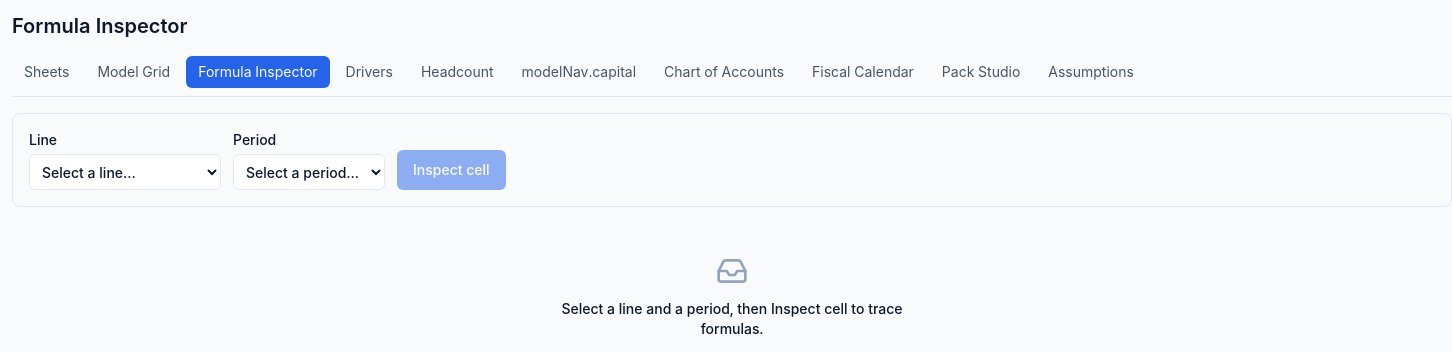
Test: S-042 Formula Inspector (F-012) › surfaces a locked user-facing message (never raw error.message) on inspection failure
Select "4000 · Revenue" in the dropdown labelled "Line": [125, 172] box [29,154,221,190]
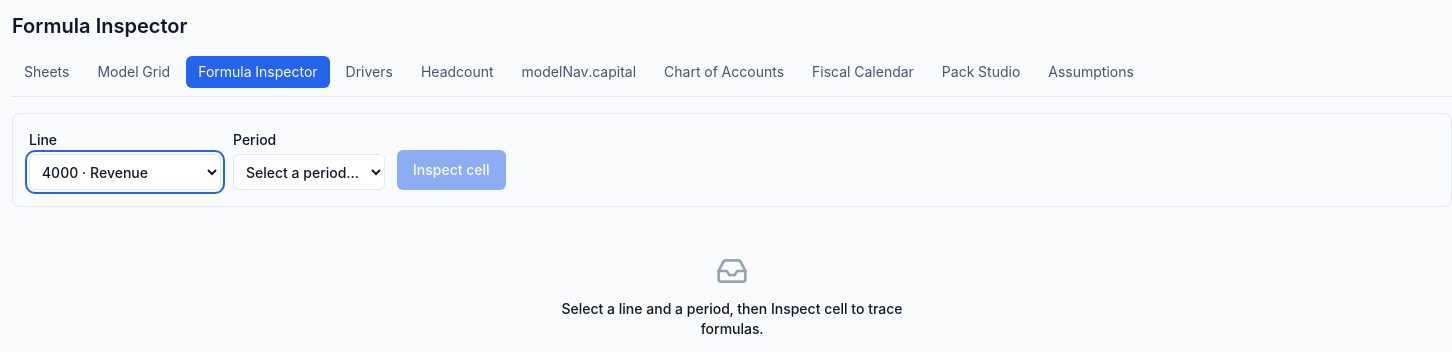
Select "P01" in the dropdown labelled "Period": [309, 172] box [233,154,385,190]
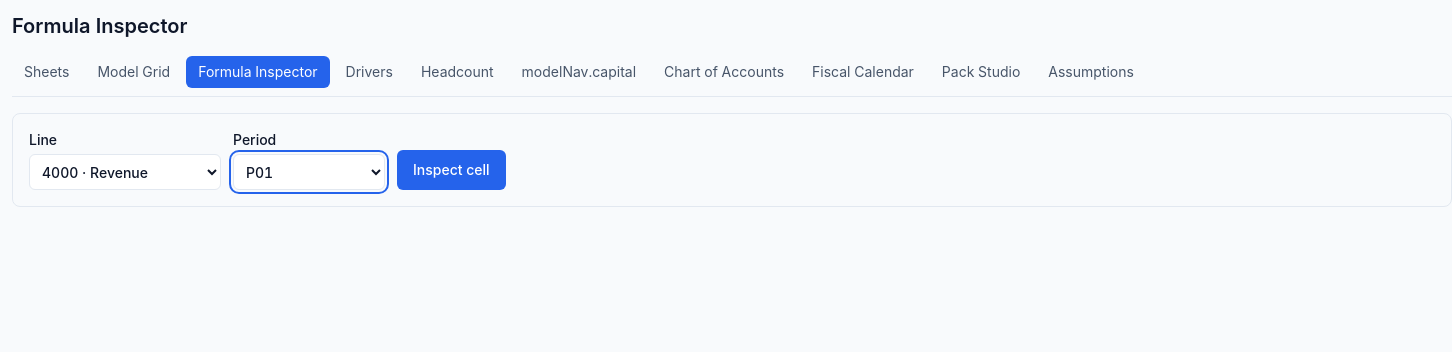
Click the button "Inspect cell": [451, 170] box [397,150,506,190]
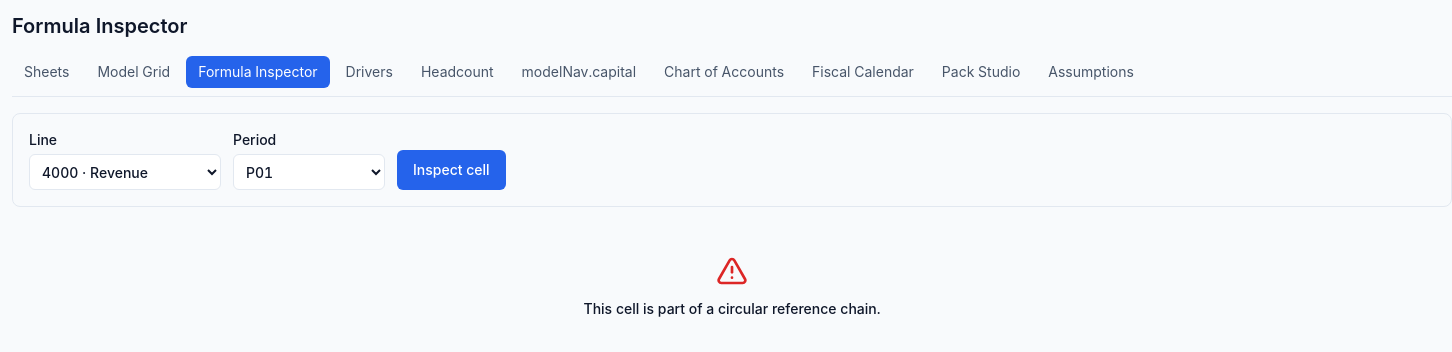
Now the text "This cell is part of a circular reference chain." is shown, box [584,299,880,319]
